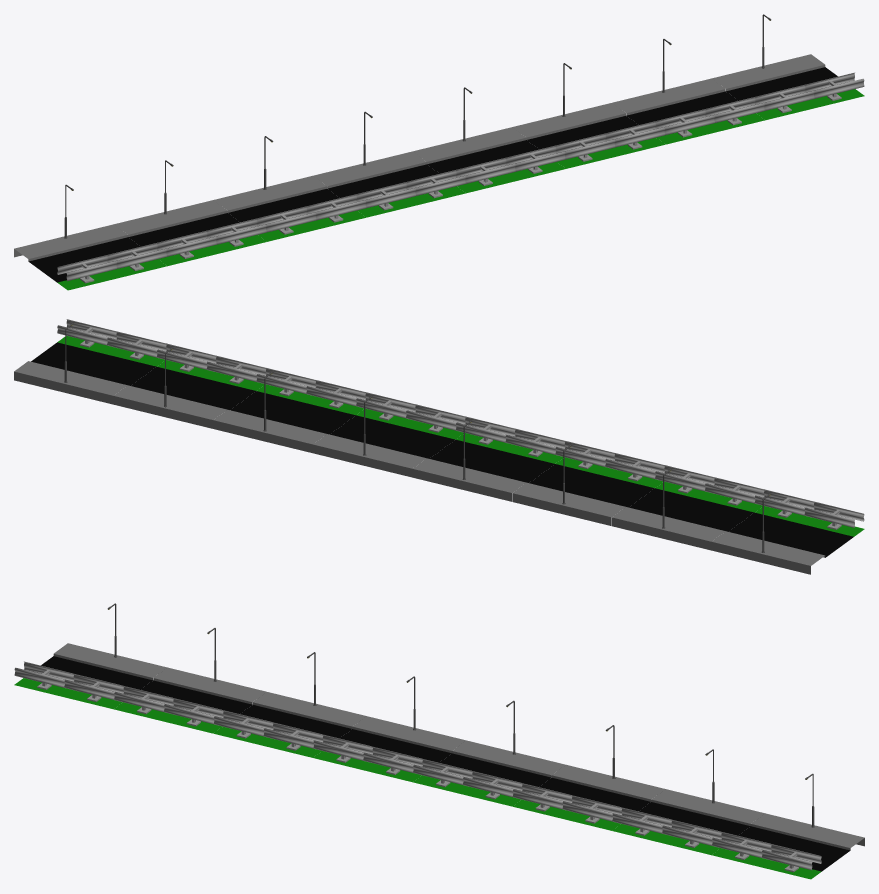
The model's file is RoadGraybox.fbx.
The picture shows the model from 3 angles, top to bottom: view 1: azimuth 30°, elevation 25°; view 2: azimuth 150°, elevation 25°; view 3: azimuth 330°, elevation 25°; orthographic projection.
Parts seen in each view (by area): view 1: Cylinder; view 2: Cylinder; view 3: Cylinder.
Part boxes in pixels (x1,y1,x2,y2): Cylinder: (14, 14, 864, 290); Cylinder: (14, 319, 864, 574); Cylinder: (14, 603, 864, 879).
Bounding box in the file's own units: 4803 × 362 × 563.
